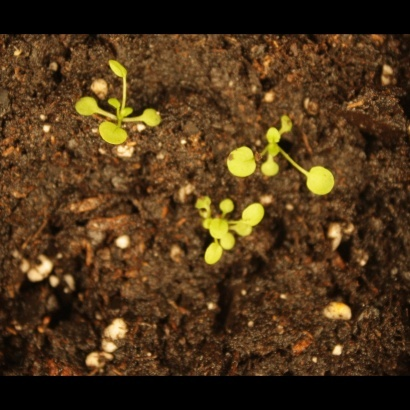leaf: (223, 144, 260, 182), (306, 164, 338, 197), (96, 122, 129, 153), (72, 90, 102, 121), (142, 104, 172, 134), (105, 54, 133, 79), (241, 201, 269, 226), (201, 243, 224, 268), (102, 89, 125, 112), (119, 100, 142, 123), (261, 156, 284, 179), (278, 111, 301, 134), (257, 121, 280, 144), (260, 139, 283, 162), (217, 193, 240, 216), (233, 217, 256, 240), (220, 231, 243, 254), (207, 217, 230, 240), (194, 189, 217, 212), (195, 211, 218, 234)
